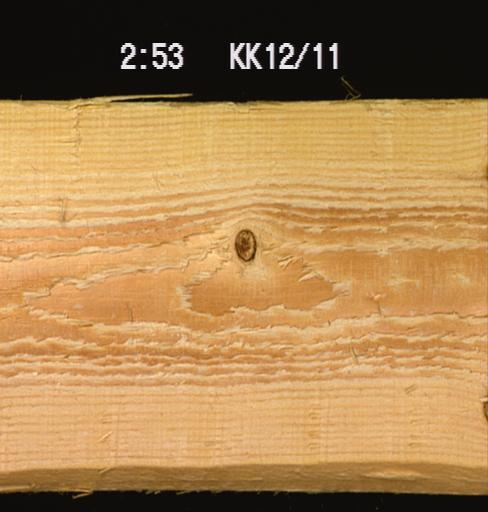dry_knot: (230, 226, 257, 262)
wave: (0, 456, 487, 497)
